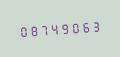eight: (28, 22, 38, 38)
four: (50, 20, 60, 36)
nine: (61, 19, 71, 36)
seven: (39, 21, 49, 37)
six: (83, 18, 93, 34)
three: (94, 17, 104, 33)
zero: (17, 23, 27, 39), (72, 19, 82, 35)
